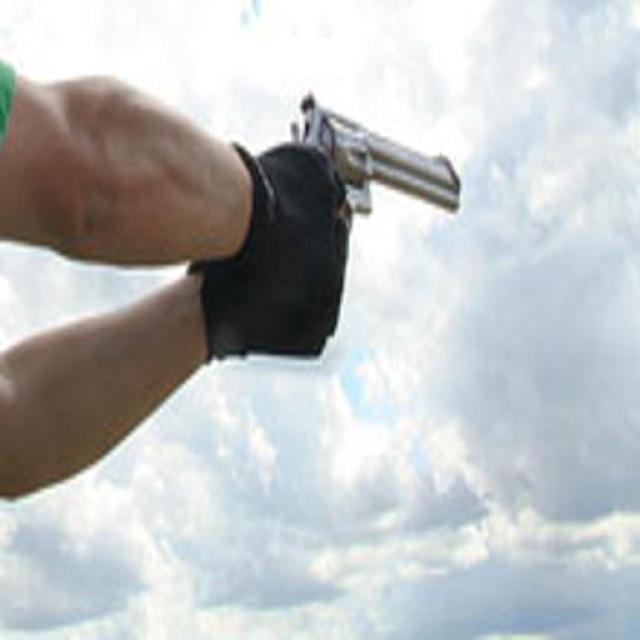pistol: (281, 90, 465, 231)
